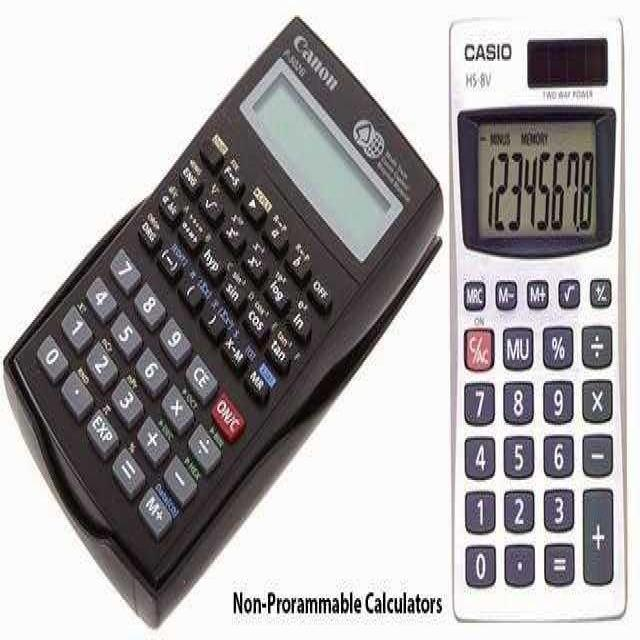Calculator: (2, 13, 444, 627), (448, 13, 628, 623)
